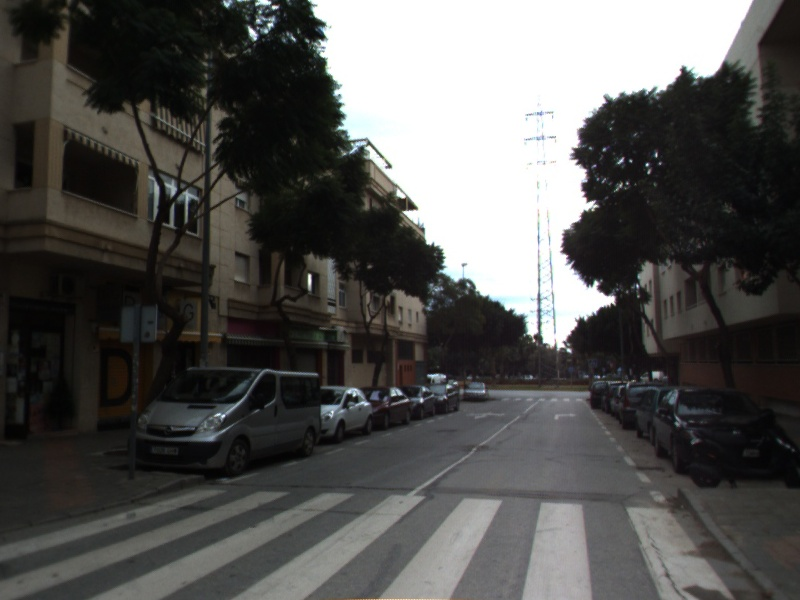RIGHT: (553, 411, 578, 421)
